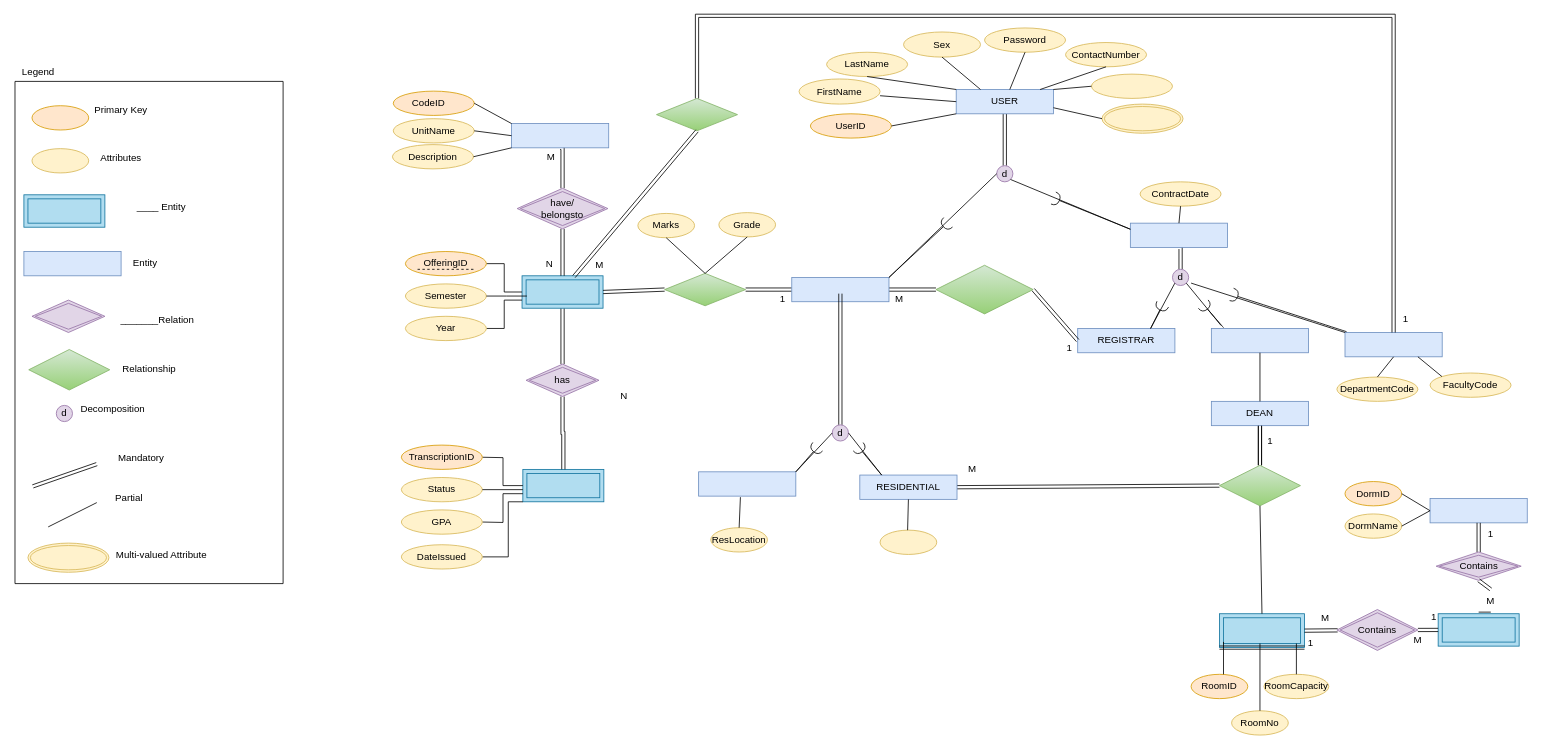
The diagram is 1541 pixels wide and 749 high, and some of its shapes have lost their labels. Each missing label, with the centre of its shape:
Allocates/Allocated: (x=1259, y=485)
DORMITORY: (x=1478, y=510)
EmailAddress: (x=1131, y=85)
EnrolsIn: (x=705, y=289)
FLOOR: (x=1478, y=629)
LECTURER: (x=1393, y=344)
MealCardNo: (x=908, y=541)
NON-RESIDENTIAL: (x=747, y=483)
PostalAddress: (x=1142, y=118)
RegisteredBy/Registers: (x=984, y=289)
ROOM: (x=1262, y=630)
STAFF: (x=1179, y=234)
STUDENT: (x=840, y=289)
STUDENT-SERVICES: (x=1260, y=340)
Teaches: (x=697, y=114)
TRANSCRIPT: (x=563, y=485)
UNIT OFFERING: (x=562, y=291)
UNITS: (x=560, y=135)
